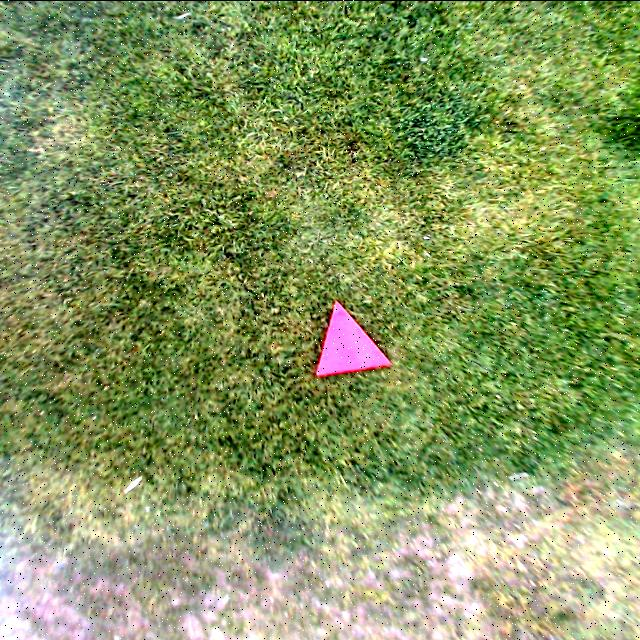red_triangle: (314, 299, 393, 376)
